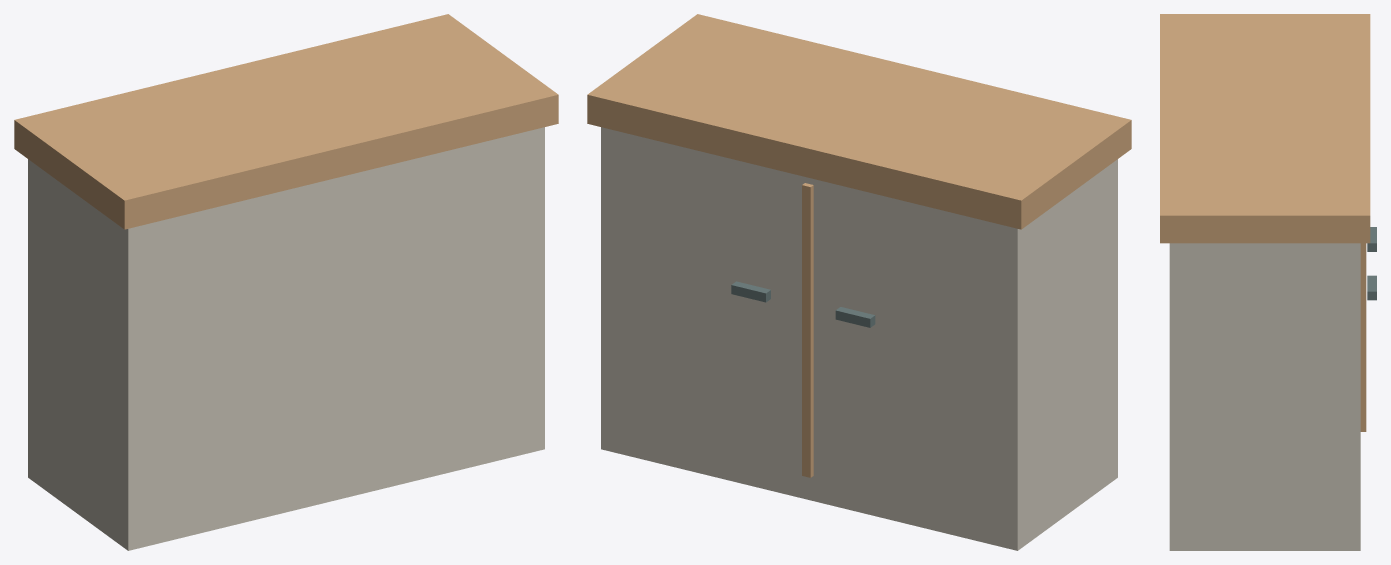
The model's file is low-storage.glb.
The picture shows the model from 3 angles, left to right: view 1: azimuth 30°, elevation 25°; view 2: azimuth 150°, elevation 25°; view 3: azimuth 270°, elevation 25°; orthographic projection. The views are drawn at different scales.
Bounding box in the file's own units: 1.25 × 0.98 × 0.5675.
